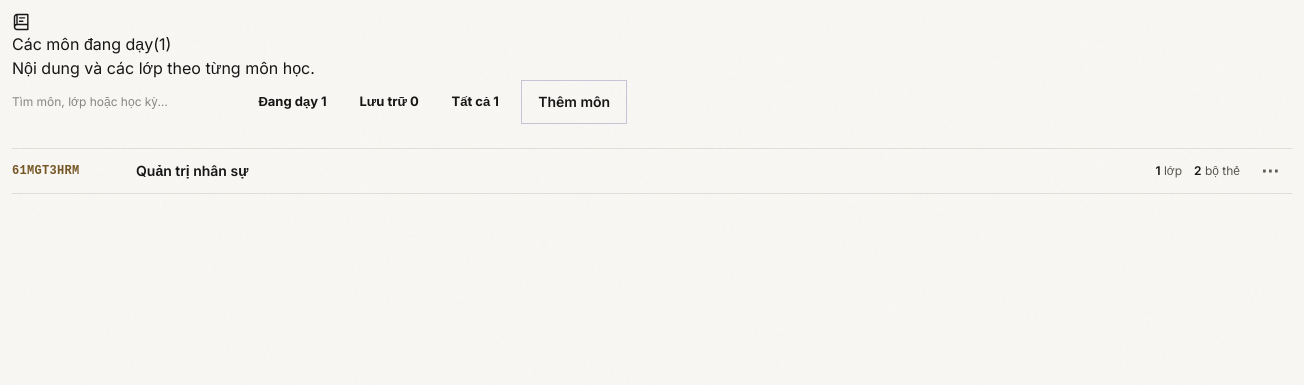
Scenario: TeachingCourseCards › shows compact course identity and keeps the menu outside the open link
This screenshot has width=1304, height=385.
expect the text "61MGT3HRM" is shown: met, box top-left (12, 164), bottom-right (80, 178)
expect the text "Quản trị nhân sự" is shown: met, box top-left (136, 162), bottom-right (248, 179)
Click the button with test id "teaching-quick-menu": click(1270, 171) top-left (1248, 149), bottom-right (1292, 193)
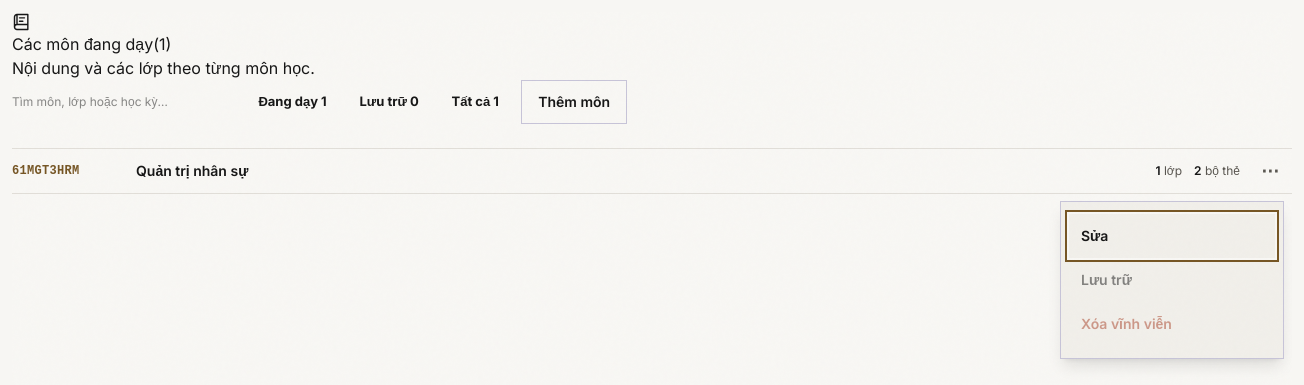
expect the menu item "Sửa" is shown: met, box top-left (1069, 214), bottom-right (1275, 258)
